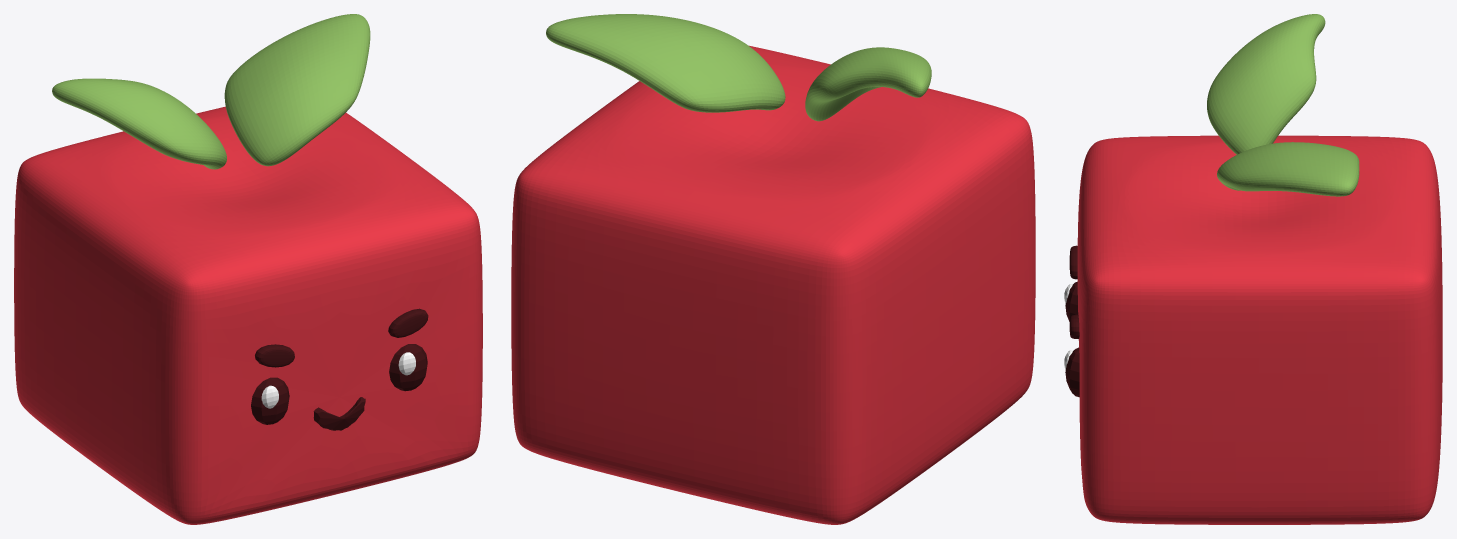
File: mascot.gltf
3 renders of one model, left to right at view 1: azimuth 30°, elevation 25°; view 2: azimuth 150°, elevation 25°; view 3: azimuth 270°, elevation 25°, orthographic. The views are drawn at different scales.
Visible parts, largest first — view 1: Cube, Leaf 1, Leaf 2, Eye L, Eye R, Mouth, Eyebrow R, Eyebrow L; view 2: Cube, Leaf 1, Leaf 2; view 3: Cube, Leaf 2, Leaf 1, Eye R.
Boxes of the visible parts, x1,y1,x2,y2 form: Cube: (14,106,482,524); Leaf 1: (224,14,370,166); Leaf 2: (52,78,226,169); Eye L: (251,377,289,424); Eye R: (389,344,427,391); Mouth: (313,397,365,430); Eyebrow R: (388,308,428,337); Eyebrow L: (255,344,294,367); Cube: (511,45,1035,524); Leaf 1: (546,14,785,112); Leaf 2: (805,47,931,121); Cube: (1077,135,1442,524); Leaf 2: (1207,14,1325,154); Leaf 1: (1217,142,1359,196); Eye R: (1065,348,1079,397).
Bounding box in the file's own units: 2.02 × 2.25 × 2.05.
